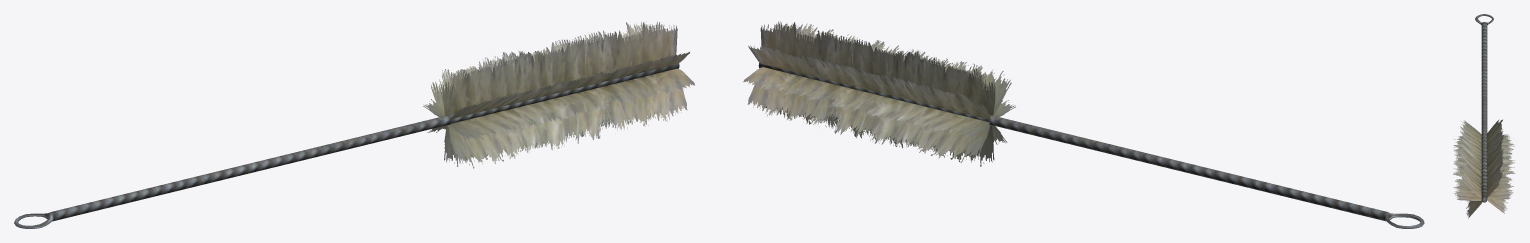
File: Brush.fbx
The picture shows the model from 3 angles, left to right: view 1: azimuth 30°, elevation 25°; view 2: azimuth 150°, elevation 25°; view 3: azimuth 270°, elevation 25°; orthographic projection. The views are drawn at different scales.
Parts seen in each view (by area): view 1: Bristle2, Bristle5, Stick, Bristle, Bristle3, Bristle6, Bristle7; view 2: Bristle2, Bristle4, Stick, Bristle01, Bristle6, Bristle3, Bristle7; view 3: Bristle3, Stick, Bristle6, Bristle01, Bristle, Bristle4, Bristle5.
Part boxes in pixels (bbox=[...]): Bristle2: bbox=[443, 21, 677, 115]; Bristle5: bbox=[448, 87, 687, 168]; Stick: bbox=[14, 63, 679, 228]; Bristle: bbox=[450, 68, 694, 139]; Bristle3: bbox=[450, 52, 689, 119]; Bristle6: bbox=[431, 21, 665, 116]; Bristle7: bbox=[444, 112, 654, 166]; Bristle2: bbox=[760, 21, 995, 115]; Bristle4: bbox=[747, 84, 990, 162]; Stick: bbox=[758, 63, 1424, 228]; Bristle01: bbox=[743, 67, 990, 136]; Bristle6: bbox=[748, 45, 990, 119]; Bristle3: bbox=[782, 23, 1011, 114]; Bristle7: bbox=[765, 106, 994, 166]; Bristle3: bbox=[1460, 120, 1481, 197]; Stick: bbox=[1475, 14, 1493, 202]; Bristle6: bbox=[1487, 119, 1503, 197]; Bristle01: bbox=[1487, 134, 1514, 199]; Bristle: bbox=[1453, 136, 1481, 200]; Bristle4: bbox=[1487, 175, 1507, 213]; Bristle5: bbox=[1466, 200, 1482, 218].
Size of the model in its own units: 0.3855 by 0.0554 by 0.0546.
